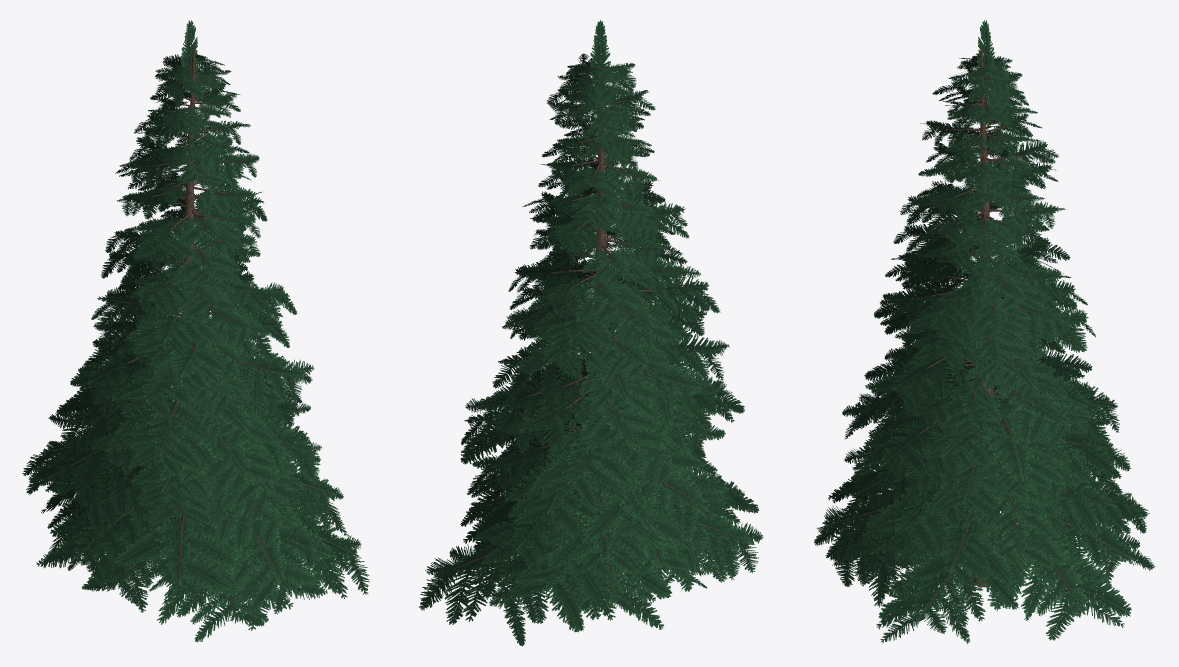
Rendered from spruce_mid_01.glb.
3 renders of one model, left to right at view 1: azimuth 30°, elevation 25°; view 2: azimuth 150°, elevation 25°; view 3: azimuth 270°, elevation 25°, orthographic.
Parts seen in each view (by area): view 1: spruce_mid_01; view 2: spruce_mid_01; view 3: spruce_mid_01.
Boxes of the visible parts, bbox=[...] form: spruce_mid_01: bbox=[22, 20, 369, 642]; spruce_mid_01: bbox=[419, 20, 763, 646]; spruce_mid_01: bbox=[814, 20, 1155, 643].
Bounding box in the file's own units: 6.69 × 11.69 × 6.66.
3 materials, 3 textured.
